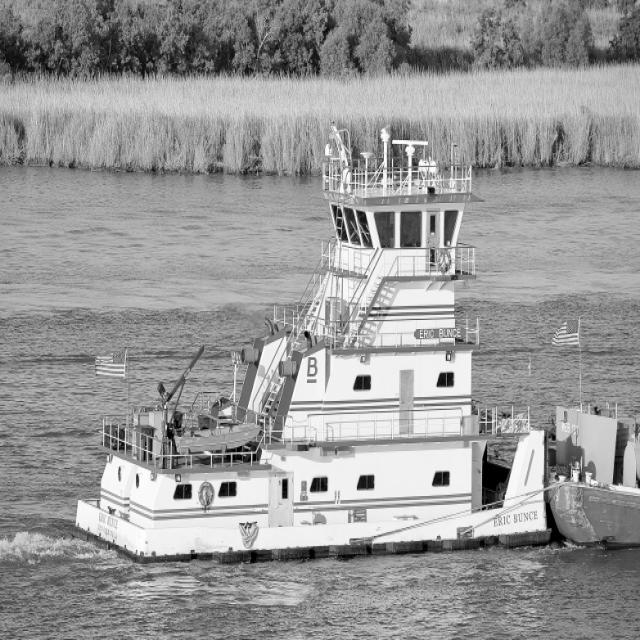tugboat: (69, 117, 561, 581)
